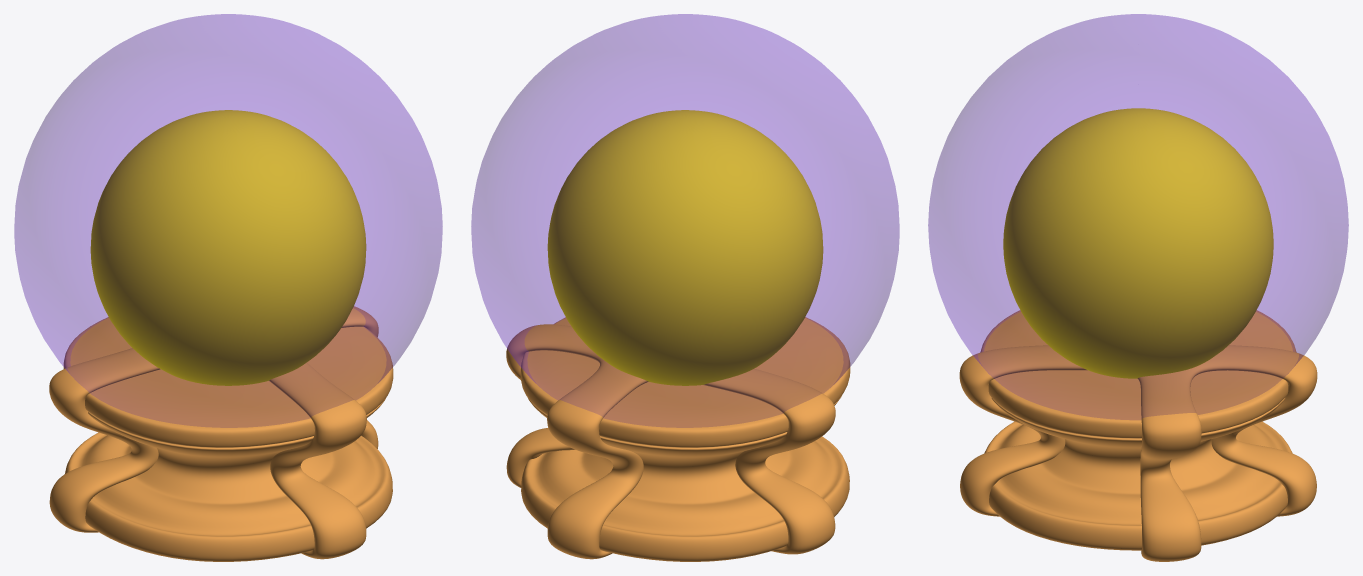
Rendered from CrystalBall.glb.
The picture shows the model from 3 angles, left to right: view 1: azimuth 30°, elevation 25°; view 2: azimuth 150°, elevation 25°; view 3: azimuth 270°, elevation 25°; orthographic projection.
Visible parts, largest first — view 1: Sphere, Sphere.001, Cube, Cube.001; view 2: Sphere, Sphere.001, Cube, Cube.001; view 3: Sphere, Sphere.001, Cube, Cube.001.
Boxes of the visible parts, x1,y1,x2,y2 form: Sphere: (14, 14, 442, 427); Sphere.001: (90, 110, 366, 385); Cube: (63, 317, 393, 561); Cube.001: (49, 306, 378, 559); Sphere: (471, 14, 899, 427); Sphere.001: (547, 110, 823, 385); Cube: (520, 317, 850, 561); Cube.001: (506, 324, 835, 559); Sphere: (928, 14, 1348, 419); Sphere.001: (1003, 108, 1273, 378); Cube: (980, 310, 1296, 550); Cube.001: (959, 345, 1317, 561).
Bounding box in the file's own units: 1.43 × 1.76 × 1.43.
